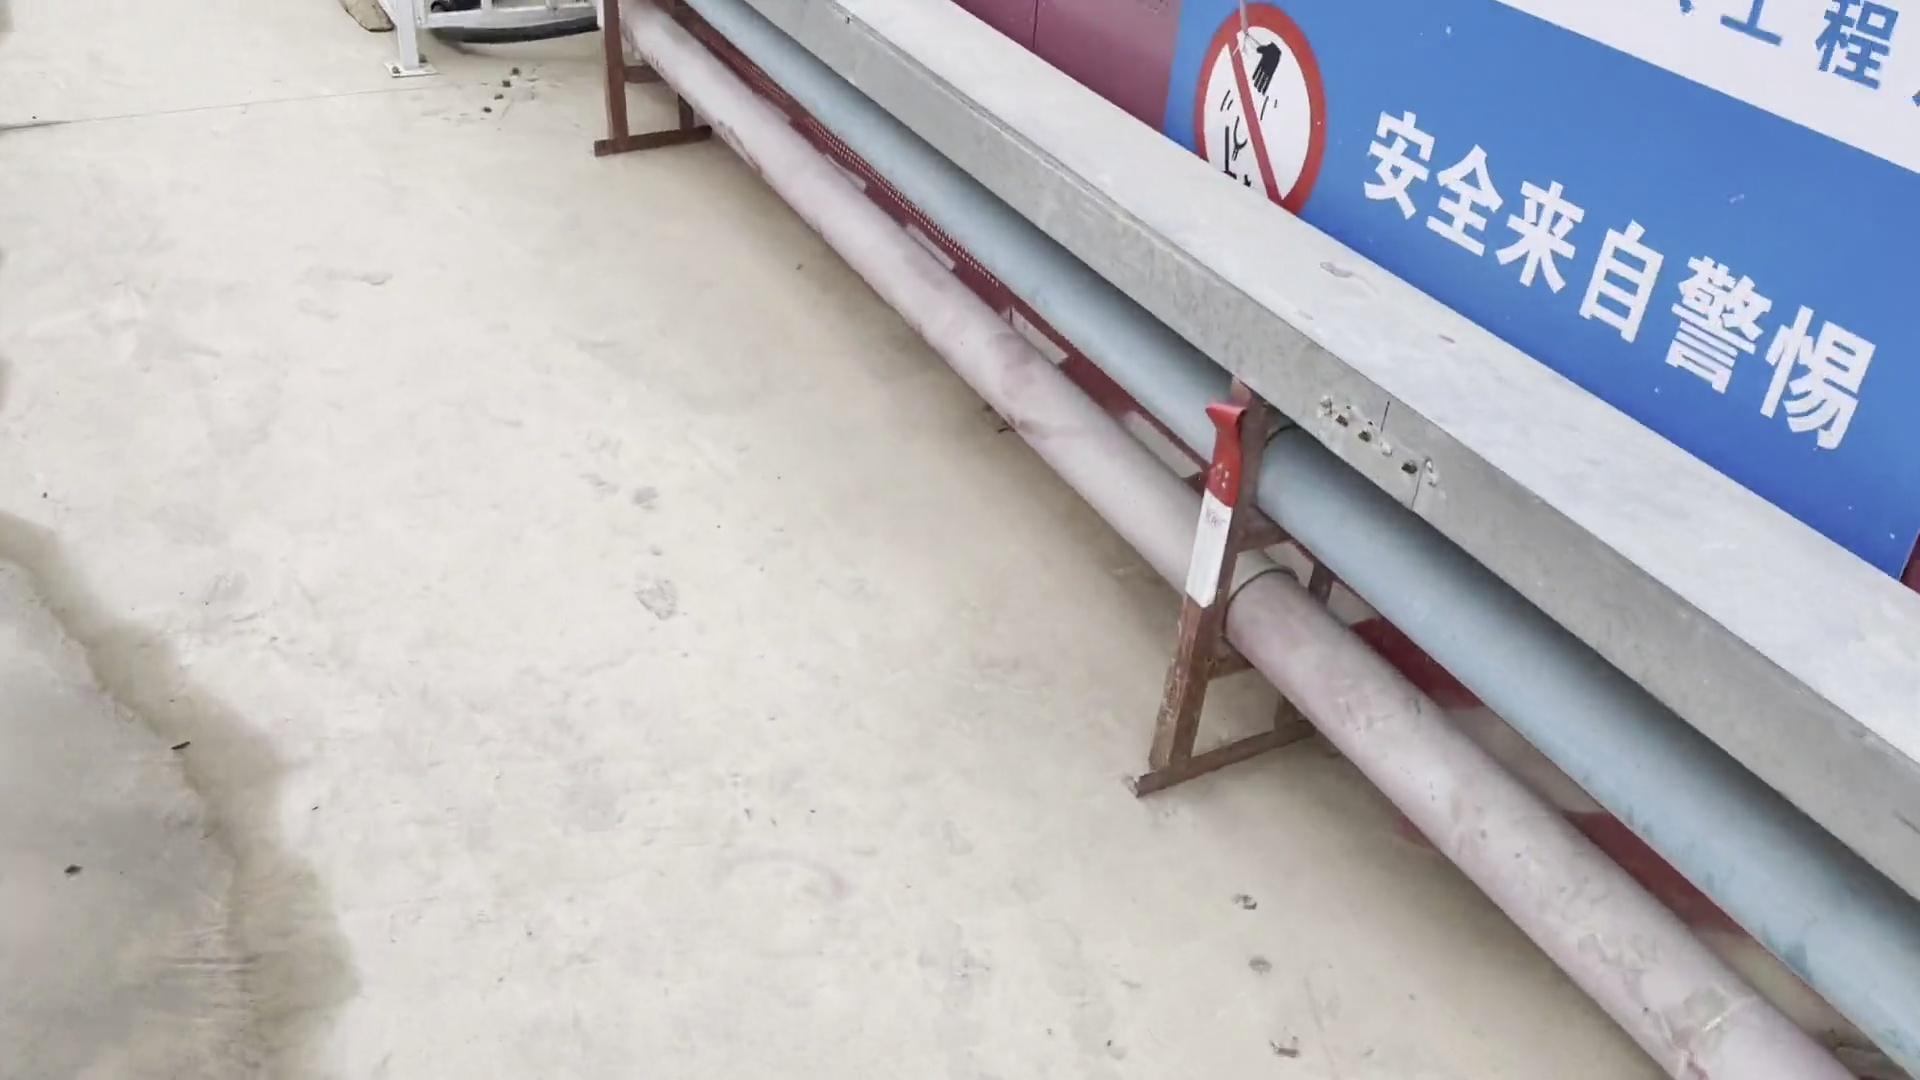fence: (964, 3, 1920, 599)
slogan: (1137, 1, 1917, 607)
